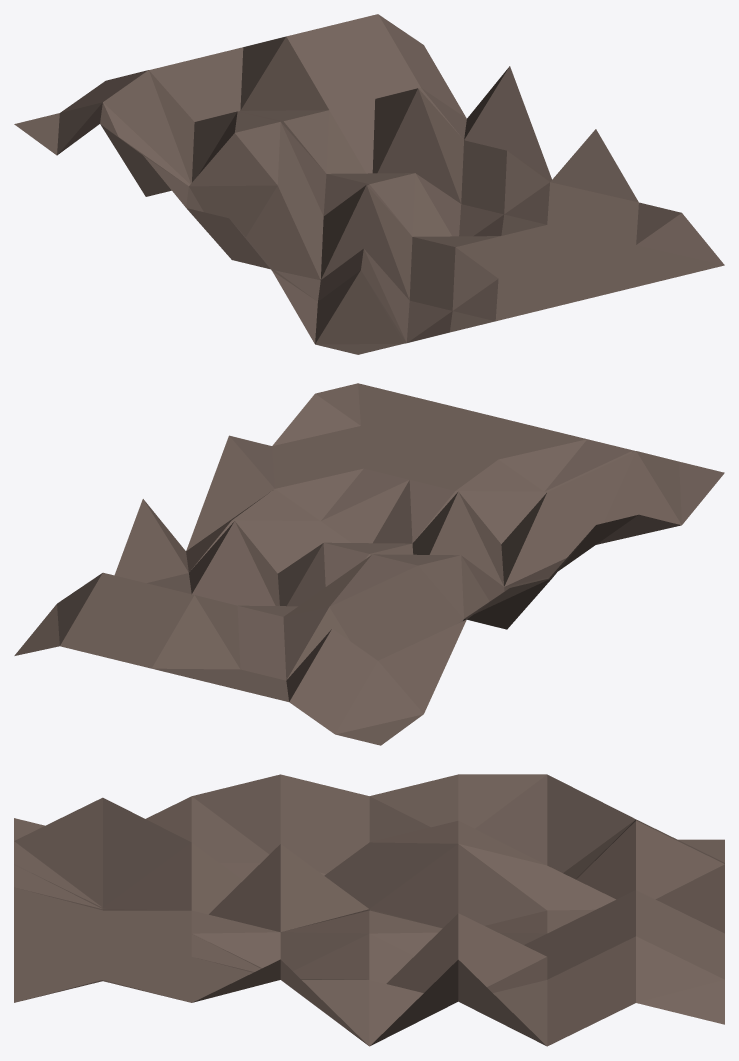
File: bulk-load.dae
3 views of the same model, one above another, from view 1: azimuth 30°, elevation 25°; view 2: azimuth 150°, elevation 25°; view 3: azimuth 270°, elevation 25° (orthographic). The views are drawn at different scales.
Visible parts, largest first — view 1: Plane_017; view 2: Plane_017; view 3: Plane_017.
Part boxes in pixels (x1,y1,x2,y2): Plane_017: (14, 14, 724, 354); Plane_017: (14, 383, 724, 745); Plane_017: (14, 774, 724, 1046).
Bounding box in the file's own units: 1.46 × 2.36 × 0.32.
